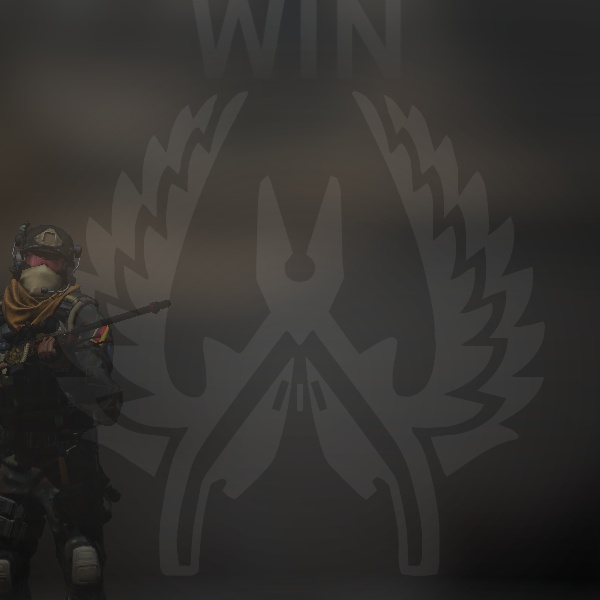ct_body: (1, 219, 125, 590)
ct_head: (1, 219, 92, 309)
